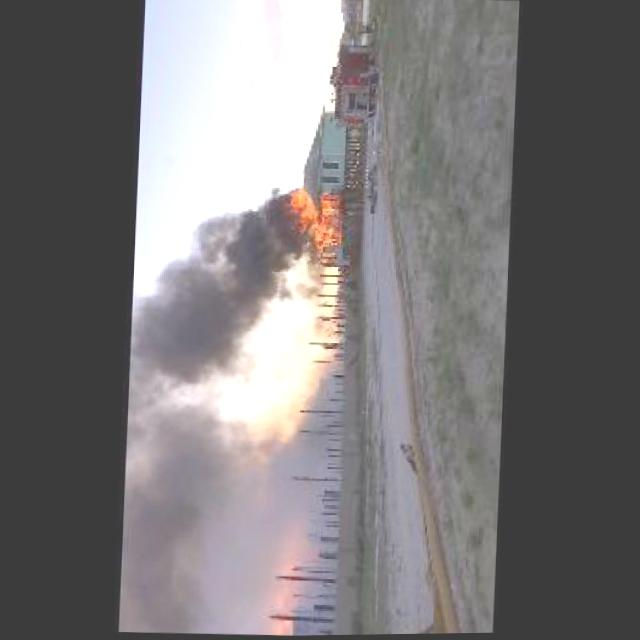Fire: (279, 182, 343, 257)
Smoke: (123, 187, 295, 406)
